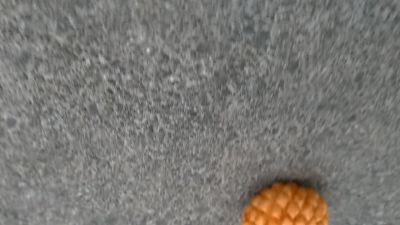eggs: (244, 181, 329, 225)
